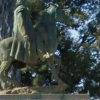Statue: (6, 3, 37, 79)
